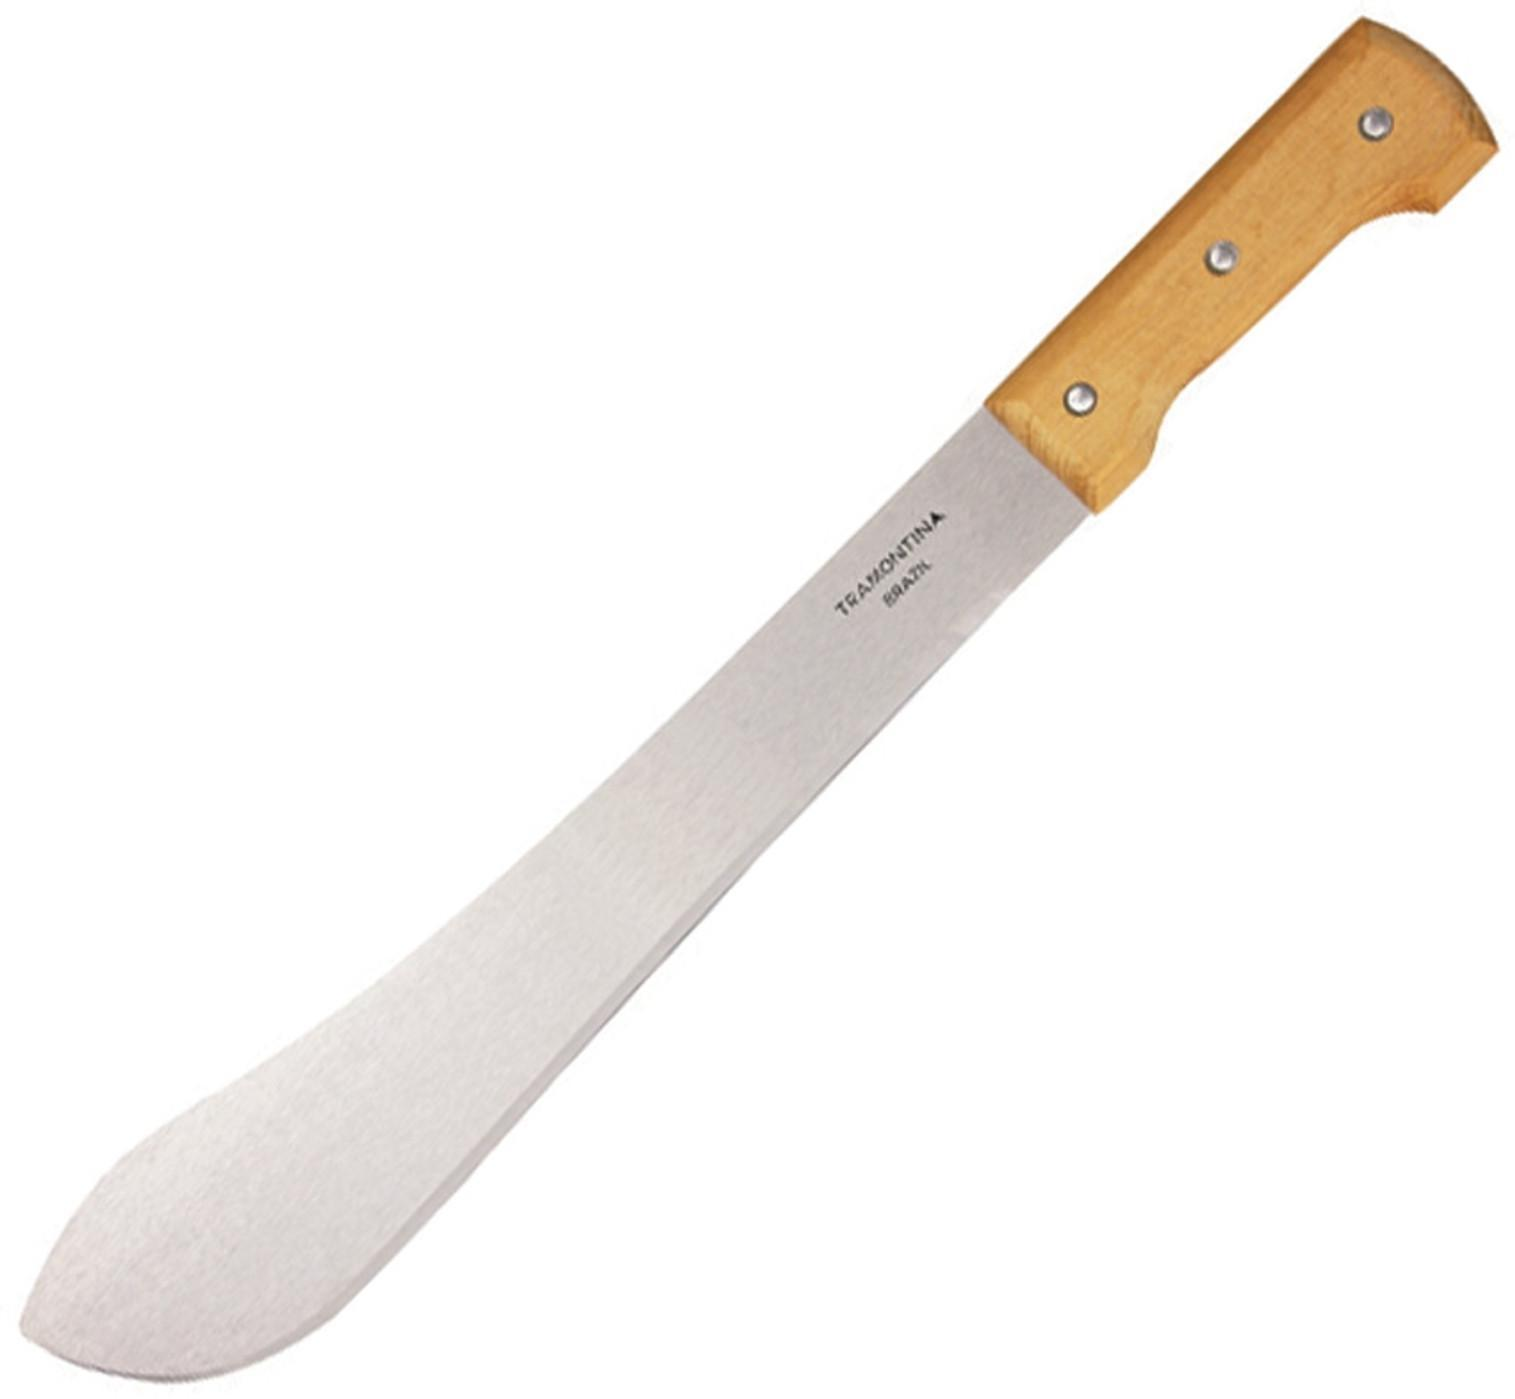facao: (22, 18, 1497, 1381)
